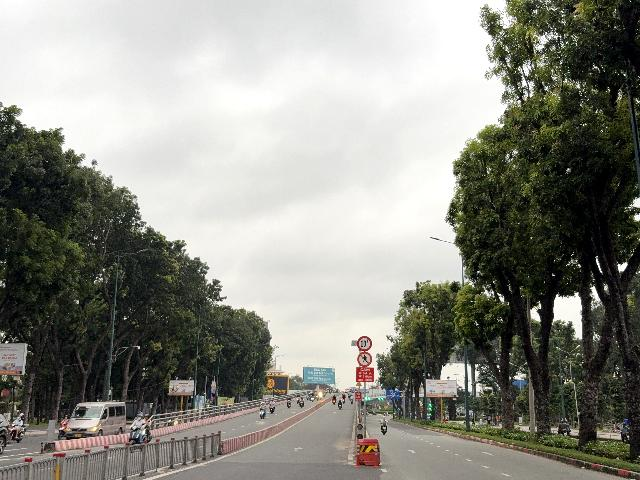cam-nguoi-di-bo: (357, 352, 372, 367)
han-che-trong-luong-xe: (357, 336, 372, 351)
